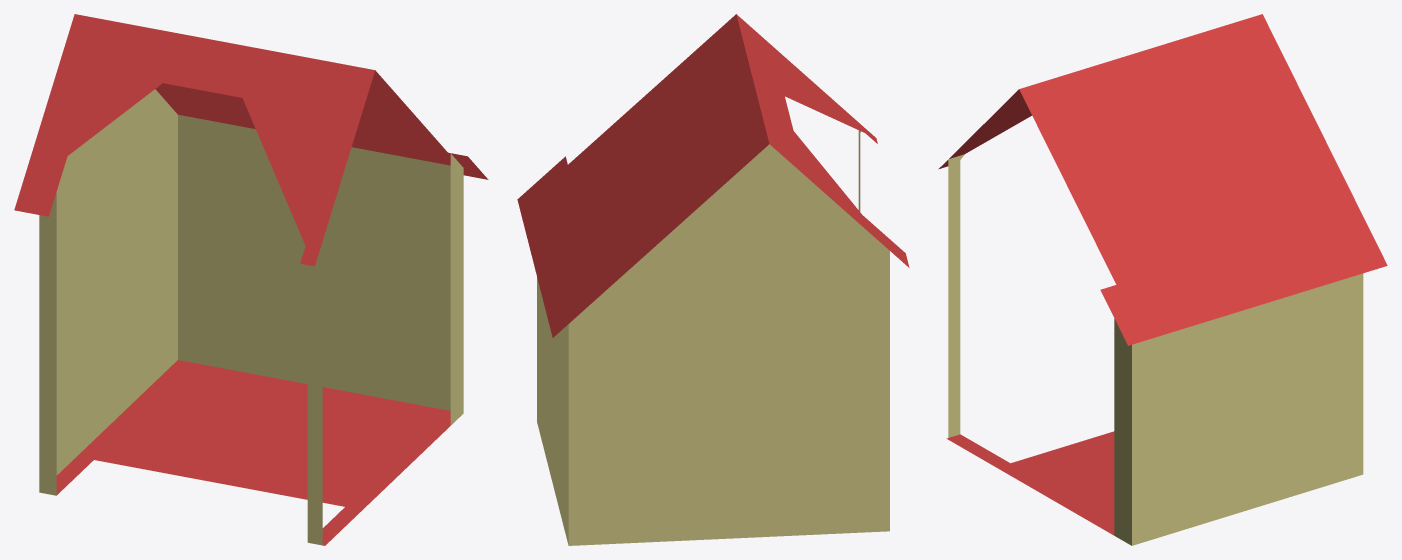
3 views of the same model, side by side, from view 1: azimuth 30°, elevation 25°; view 2: azimuth 150°, elevation 25°; view 3: azimuth 270°, elevation 25° (orthographic). The views are drawn at different scales.
Size of the model in its own units: 13.56 by 12.92 by 12.36.
